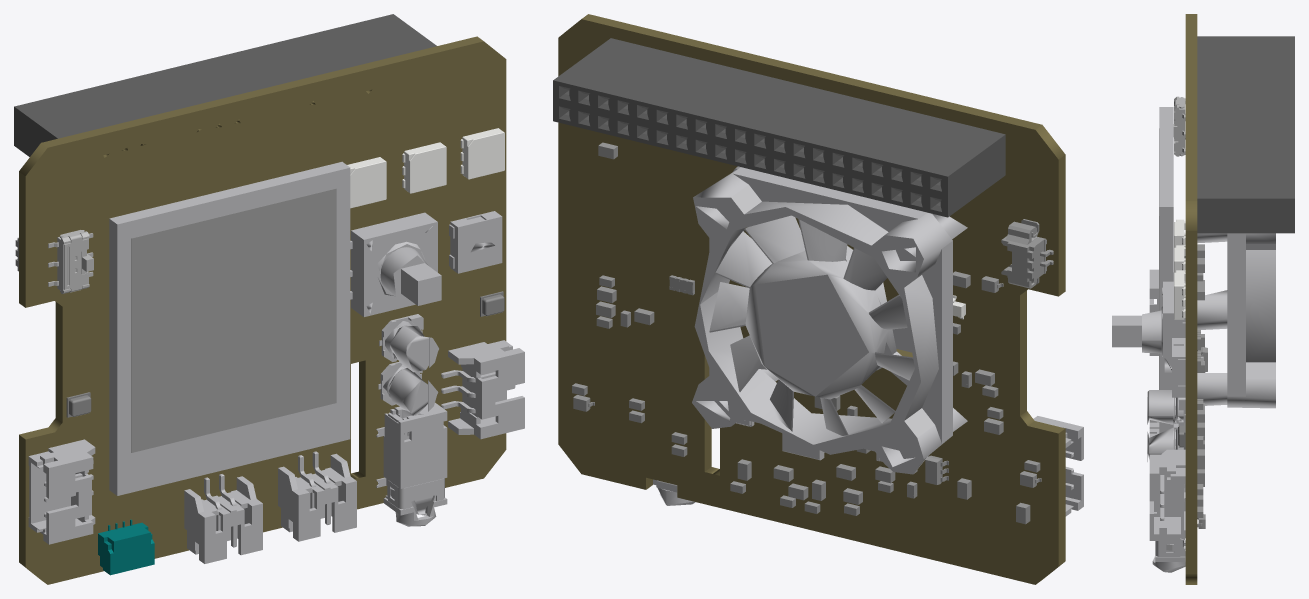
The model's file is ada-4374.glb.
3 views of the same model, side by side, from view 1: azimuth 30°, elevation 25°; view 2: azimuth 150°, elevation 25°; view 3: azimuth 270°, elevation 25° (orthographic). The views are drawn at different scales.
Parts seen in each view (by area): view 1: 0.16666666666666666_0.16666666666666666_0.08333333333333333_, 0.5833333333333334_0.5833333333333334_0.5833333333333334_0.8, 0.3333333333333333_0.3333333333333333_0.3333333333333333_0, 0.08333333333333333_0.08333333333333333_0.08333333333333333_, 0.9166666666666666_0.9166666666666666_0.9166666666666666_0.8, 0_0.25_0.25_0, 0.5_0.5_0.5_0.85, 0.25_0.25_0.25_0; view 2: 0.16666666666666666_0.16666666666666666_0.08333333333333333_, 0.5833333333333334_0.5833333333333334_0.5833333333333334_0.8, 0.08333333333333333_0.08333333333333333_0.08333333333333333_, 0.3333333333333333_0.3333333333333333_0.3333333333333333_0; view 3: 0.5833333333333334_0.5833333333333334_0.5833333333333334_0.8, 0.08333333333333333_0.08333333333333333_0.08333333333333333_, 0.16666666666666666_0.16666666666666666_0.08333333333333333_, 0.3333333333333333_0.3333333333333333_0.3333333333333333_0, 0.9166666666666666_0.9166666666666666_0.9166666666666666_0.8, 0.5_0.5_0.5_0.85.
Part boxes in pixels (x1=…): 0.16666666666666666_0.16666666666666666_0.08333333333333333_: x1=19, y1=36, x2=506, y2=584; 0.5833333333333334_0.5833333333333334_0.5833333333333334_0.8: x1=28, y1=161, x2=524, y2=563; 0.3333333333333333_0.3333333333333333_0.3333333333333333_0: x1=15, y1=188, x2=336, y2=452; 0.08333333333333333_0.08333333333333333_0.08333333333333333_: x1=14, y1=14, x2=436, y2=156; 0.9166666666666666_0.9166666666666666_0.9166666666666666_0.8: x1=347, y1=128, x2=504, y2=208; 0_0.25_0.25_0: x1=98, y1=519, x2=154, y2=575; 0.5_0.5_0.5_0.85: x1=48, y1=230, x2=93, y2=293; 0.25_0.25_0.25_0: x1=66, y1=291, x2=504, y2=417; 0.16666666666666666_0.16666666666666666_0.08333333333333333_: x1=558, y1=14, x2=1065, y2=584; 0.5833333333333334_0.5833333333333334_0.5833333333333334_0.8: x1=653, y1=166, x2=1083, y2=516; 0.08333333333333333_0.08333333333333333_0.08333333333333333_: x1=553, y1=38, x2=1005, y2=217; 0.3333333333333333_0.3333333333333333_0.3333333333333333_0: x1=572, y1=142, x2=1053, y2=524; 0.5833333333333334_0.5833333333333334_0.5833333333333334_0.8: x1=1112, y1=107, x2=1275, y2=572; 0.08333333333333333_0.08333333333333333_0.08333333333333333_: x1=1197, y1=36, x2=1294, y2=233; 0.16666666666666666_0.16666666666666666_0.08333333333333333_: x1=1185, y1=14, x2=1197, y2=584; 0.3333333333333333_0.3333333333333333_0.3333333333333333_0: x1=1159, y1=128, x2=1207, y2=528; 0.9166666666666666_0.9166666666666666_0.9166666666666666_0.8: x1=1174, y1=219, x2=1185, y2=319; 0.5_0.5_0.5_0.85: x1=1173, y1=96, x2=1185, y2=156.
Bounding box in the file's own units: 6.5 × 5.85 × 2.44.
